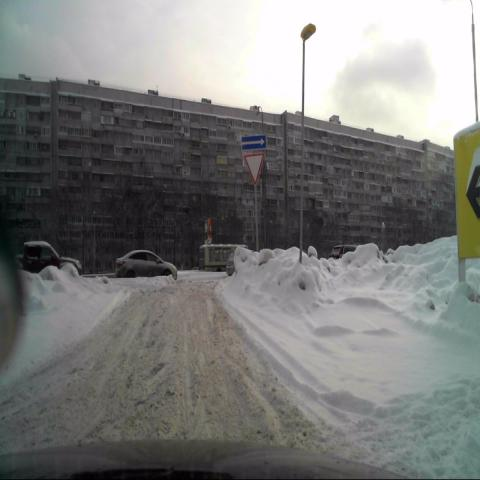5_7_1: (241, 134, 266, 150)
